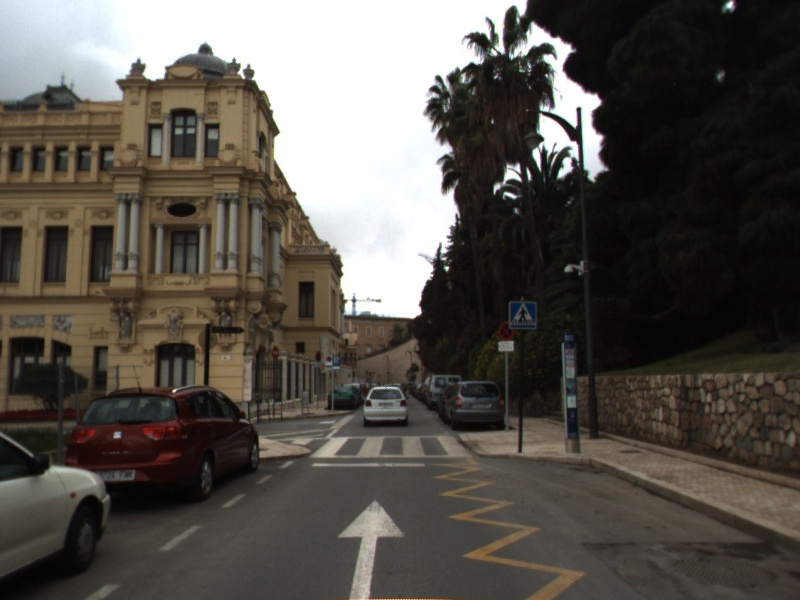STRAIGHT: (334, 495, 410, 600)
